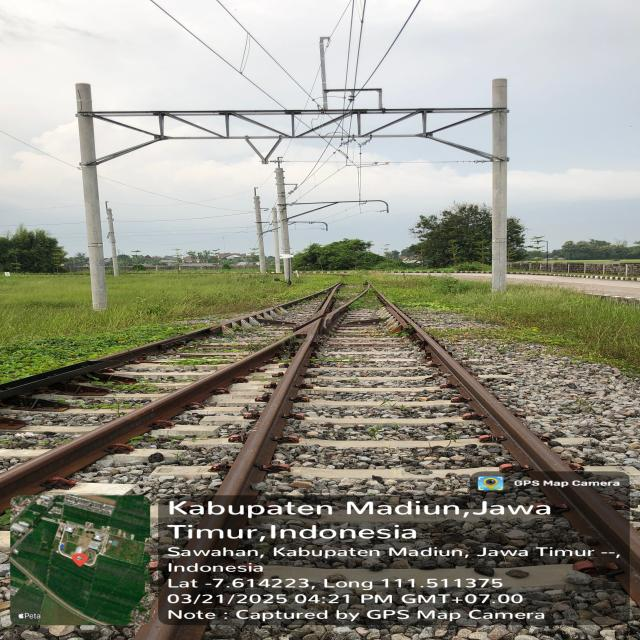rail-detection: (370, 286, 640, 575), (0, 336, 290, 510), (214, 297, 354, 505), (0, 306, 284, 399)
